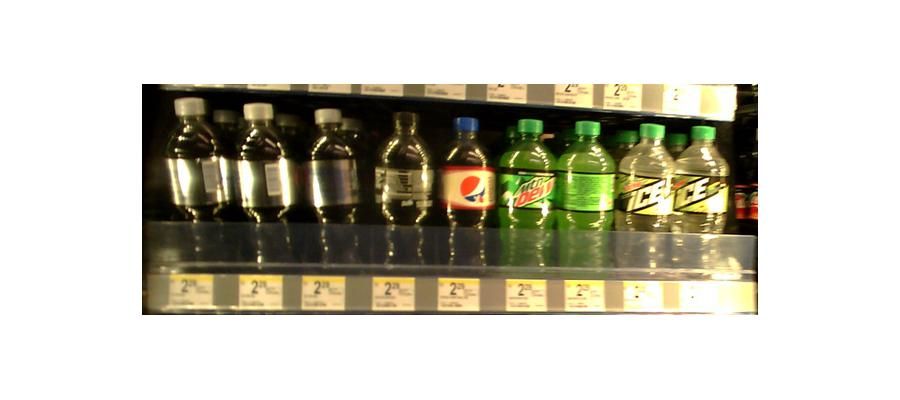bottle: (229, 102, 300, 273), (161, 98, 230, 269), (303, 108, 374, 272), (376, 109, 435, 268), (615, 117, 675, 273), (556, 118, 615, 275), (498, 113, 554, 271), (441, 110, 492, 270), (676, 120, 728, 270)
